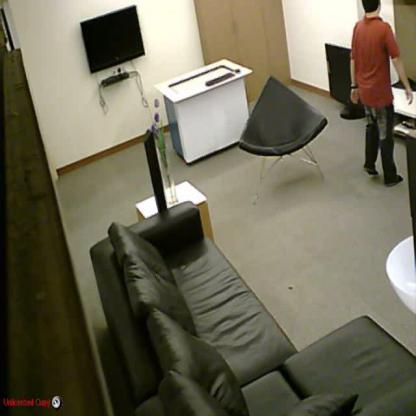Person: (350, 0, 414, 186)
